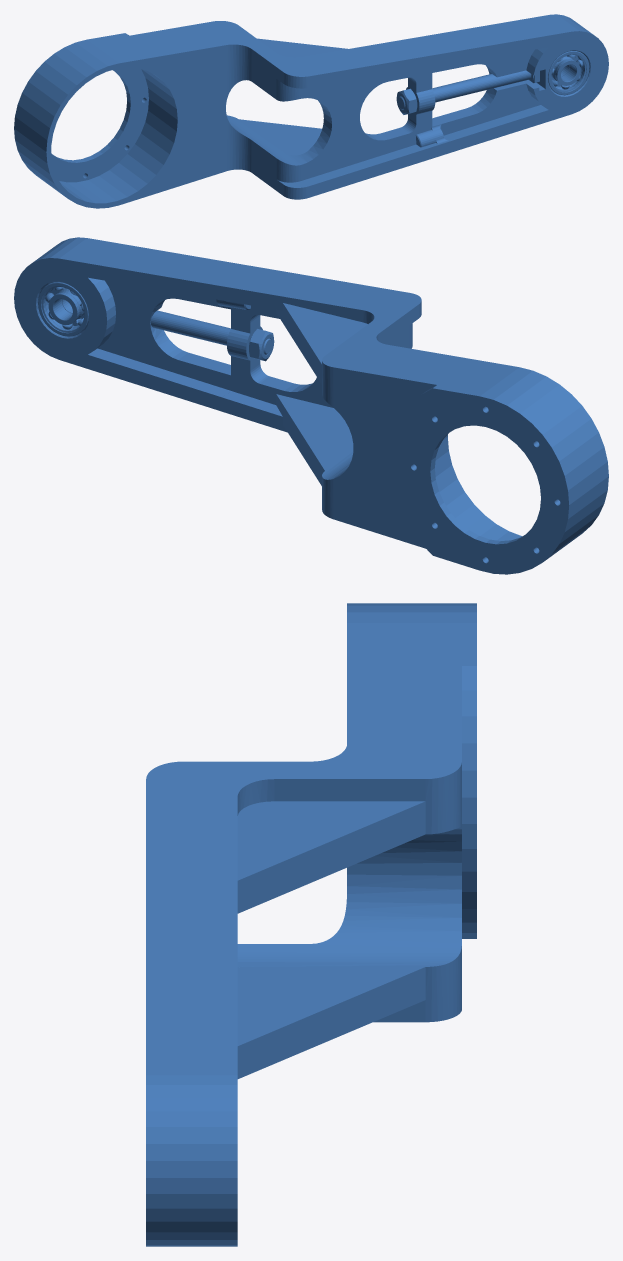
File: brazo_fr.dae
The picture shows the model from 3 angles, top to bottom: view 1: azimuth 30°, elevation 25°; view 2: azimuth 150°, elevation 25°; view 3: azimuth 270°, elevation 25°; orthographic projection. The views are drawn at different scales.
Visible parts, largest first — view 1: nodo; view 2: nodo; view 3: nodo.
Part boxes in pixels (x1,y1,x2,y2): nodo: (14, 14, 608, 208); nodo: (14, 237, 608, 574); nodo: (146, 603, 476, 1246).
Bounding box in the file's own units: 0.3237 × 0.0905 × 0.0858.
